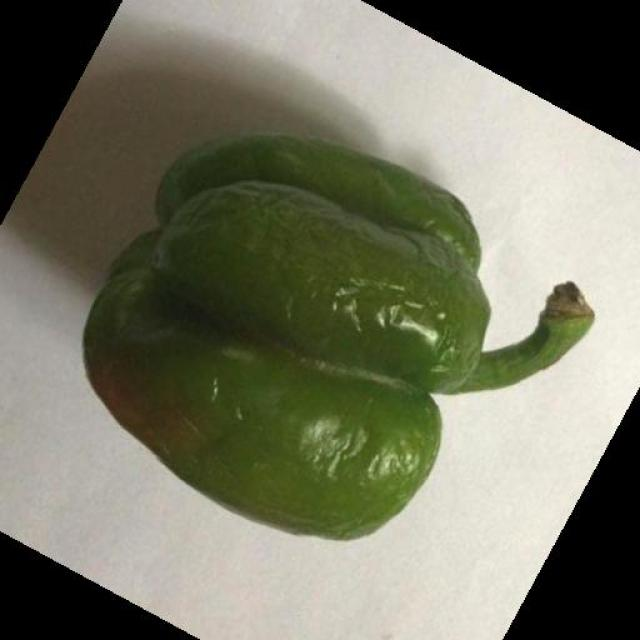Stale_Capsicum: (125, 65, 545, 543)
